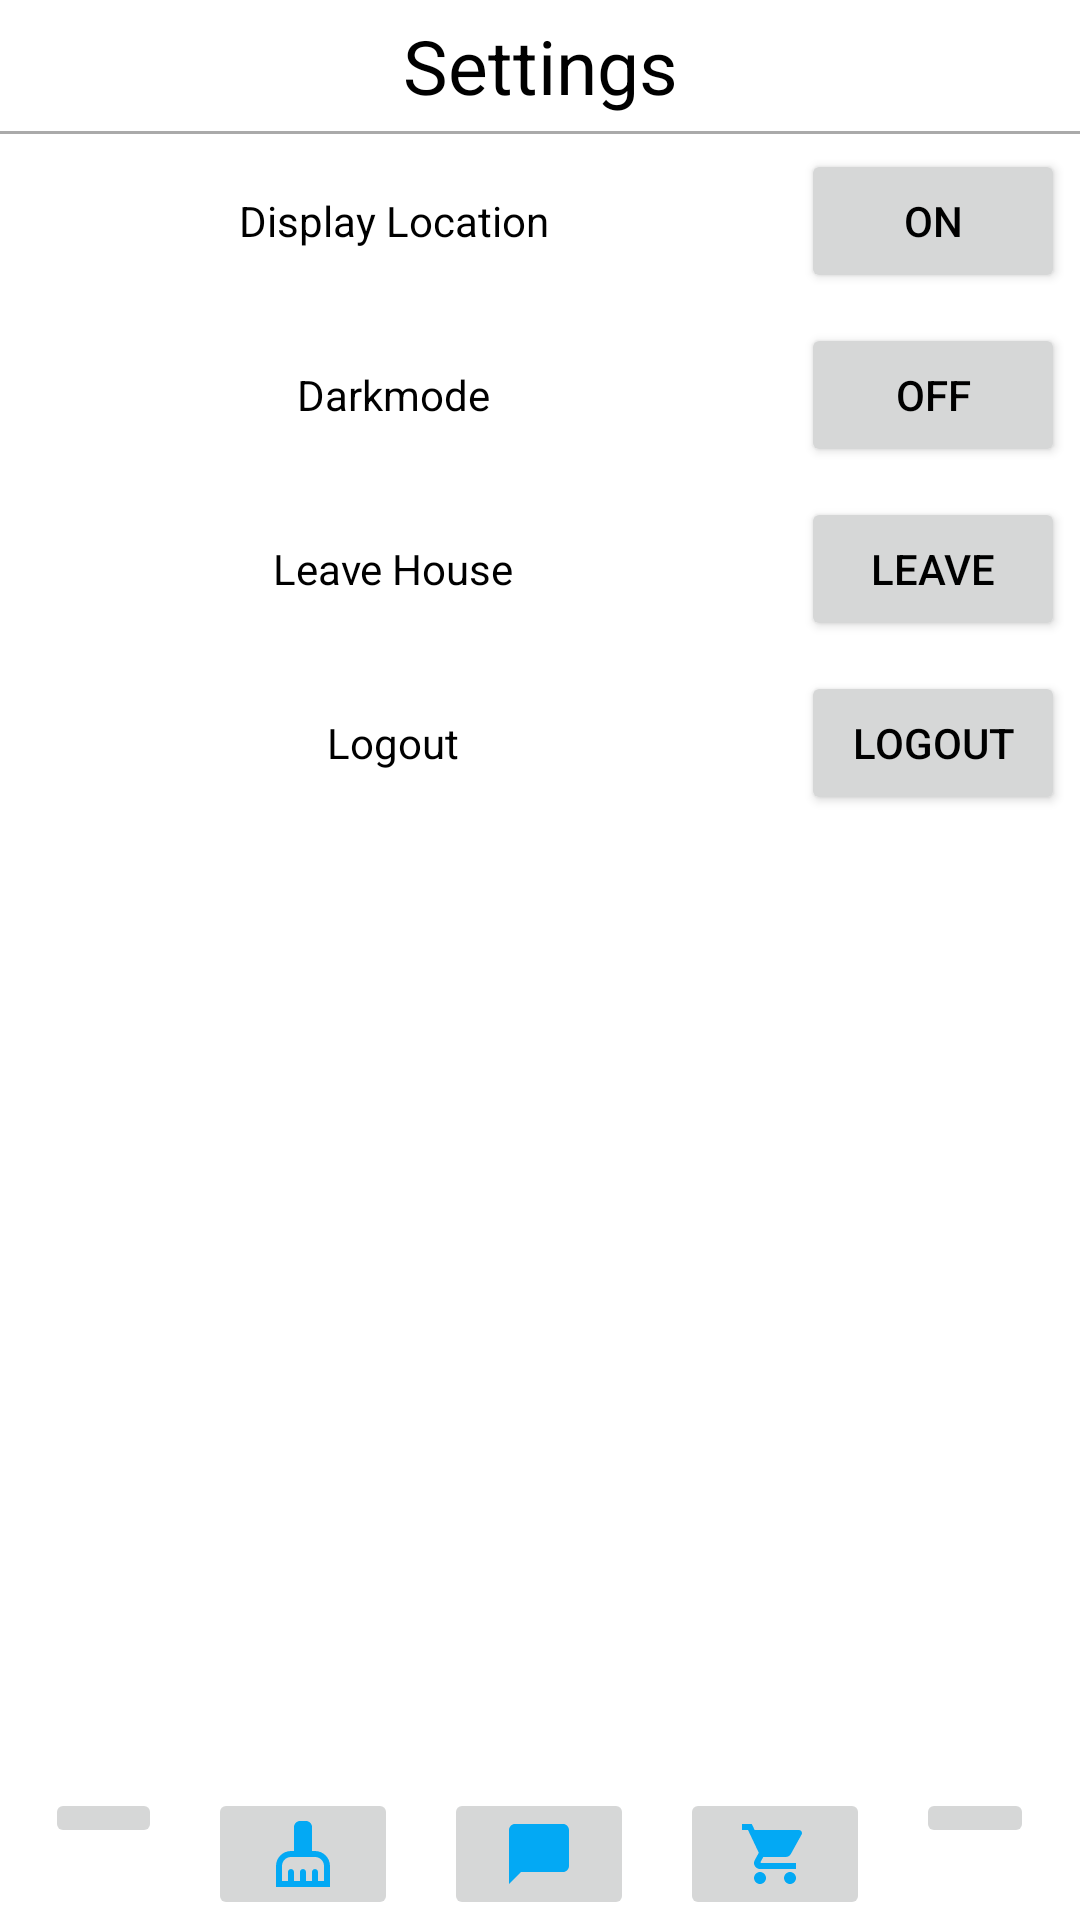

Icons on this 1080 × 1920 Android screen, each with the point to tap as point (x, y):
Go to Chores: point (303, 1854)
Go to Messages: point (539, 1854)
Go to Shopping List: point (775, 1854)
